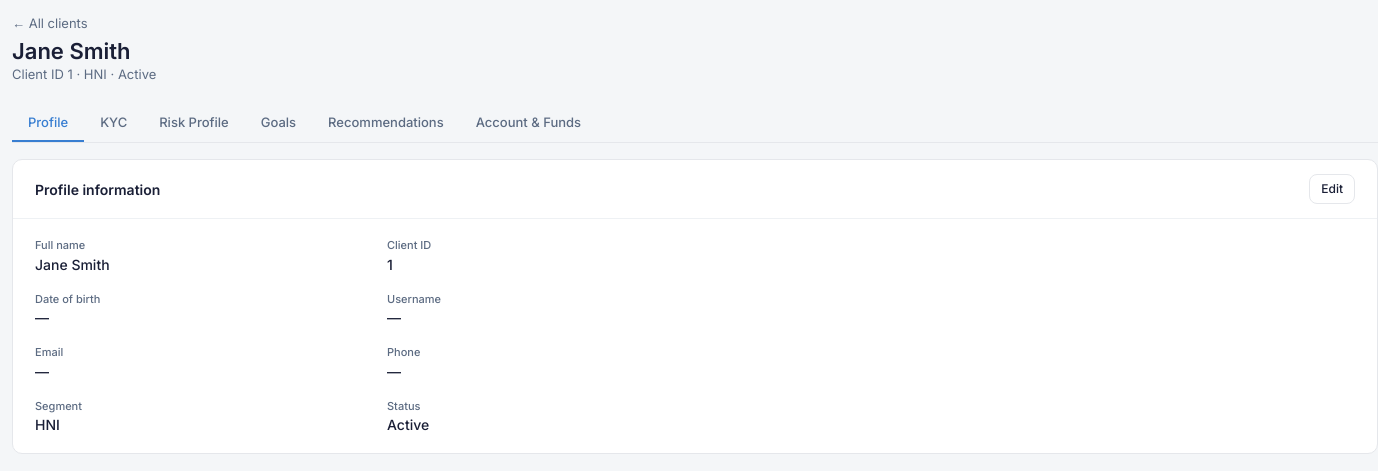
ClientDetail page › switches to Goals tab and shows no goals
Click the button "Goals". click: x=278, y=123
box: left=245, top=104, right=312, bottom=142
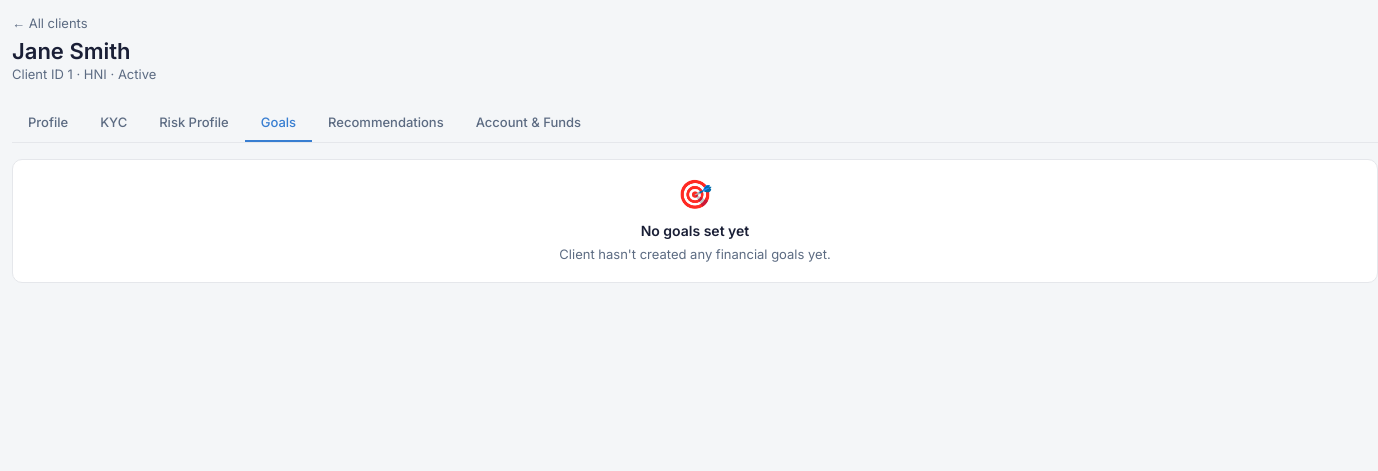
Now the text "No goals set yet" is shown, box left=641, top=222, right=749, bottom=239
